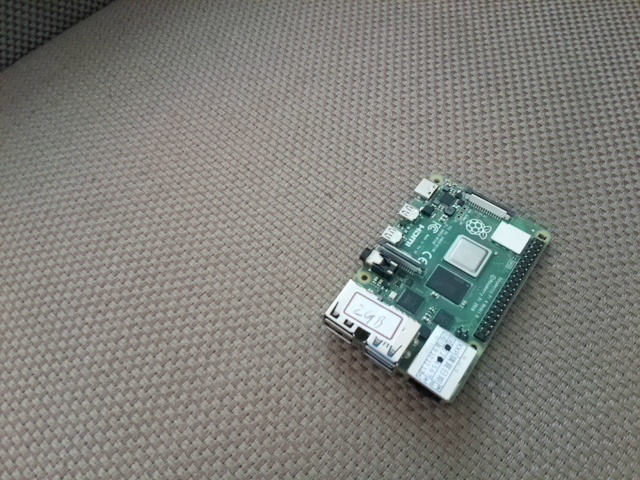Pi4: (314, 169, 557, 412)
